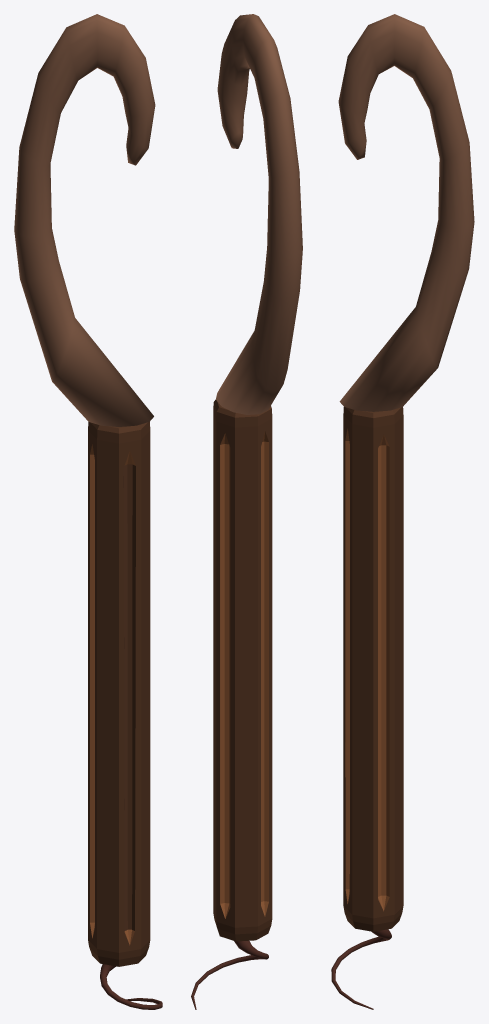
Rendered from Wand 589.glb.
3 renders of one model, left to right at view 1: azimuth 90°, elevation 25°; view 2: azimuth 210°, elevation 25°; view 3: azimuth 270°, elevation 25°, orthographic. The views are drawn at different scales.
Parts seen in each view (by area): view 1: GeneratedWand; view 2: GeneratedWand; view 3: GeneratedWand.
Part boxes in pixels (x1=…): GeneratedWand: x1=14, y1=14, x2=162, y2=1009; GeneratedWand: x1=191, y1=14, x2=302, y2=1009; GeneratedWand: x1=331, y1=14, x2=474, y2=1009.
Size of the model in its own units: 0.0402 by 0.5166 by 0.0688.
